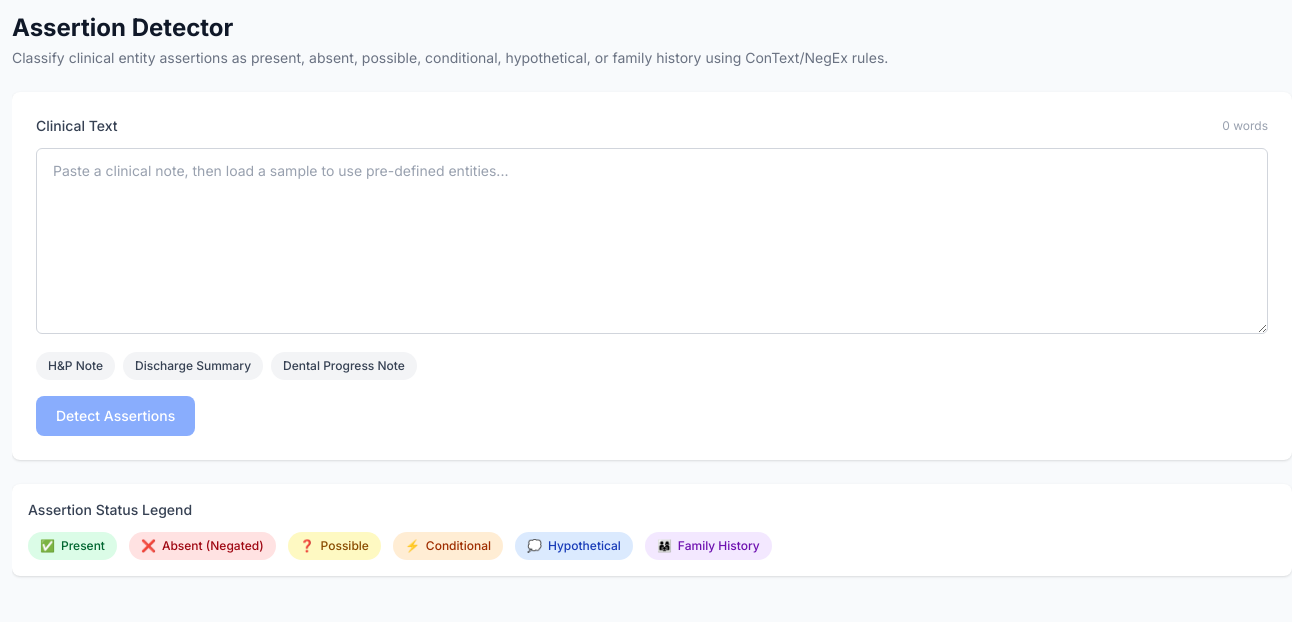
Test: AssertionDetector › sample loading › shows entity count after loading sample
Click the button "H&P Note" at point(76, 366), box [36,352,115,380]
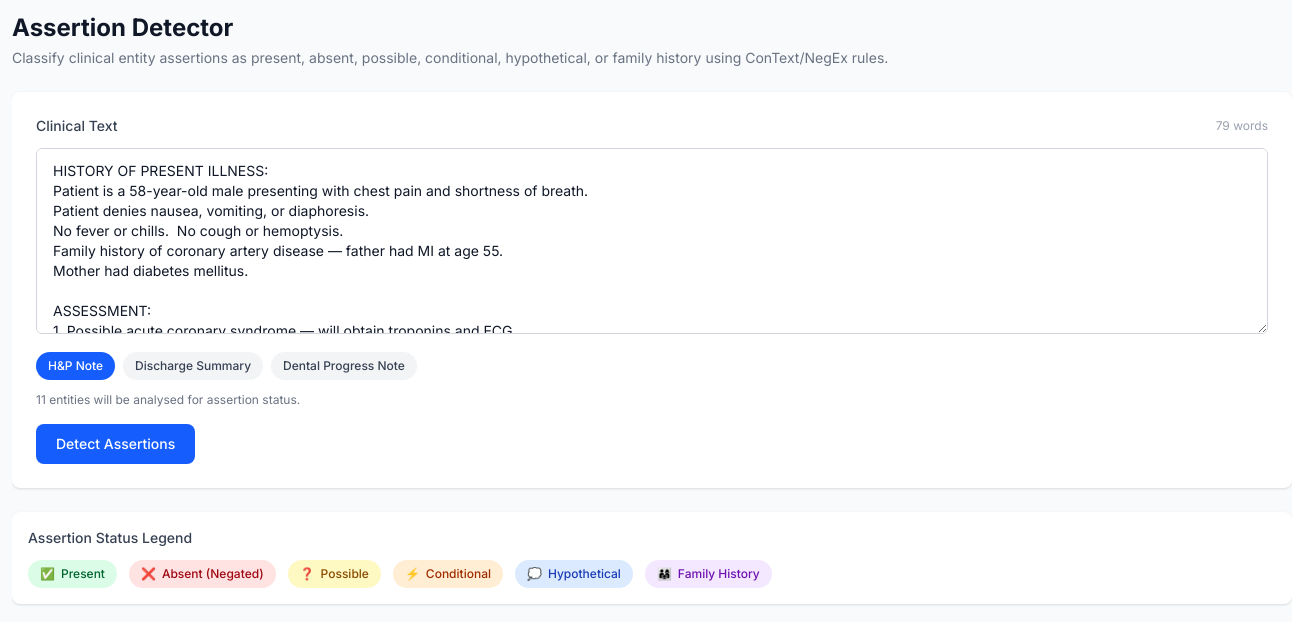
Expected: the text "11 entities will be analysed for assertion status." is shown, [36,392,300,407]
